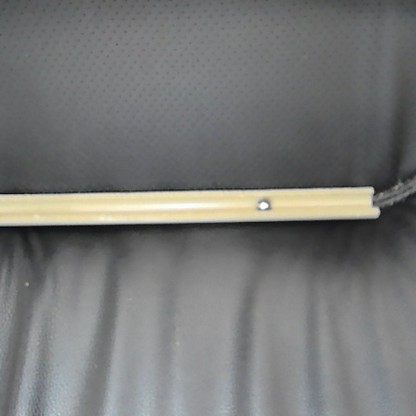ironball: (255, 197, 270, 210)
